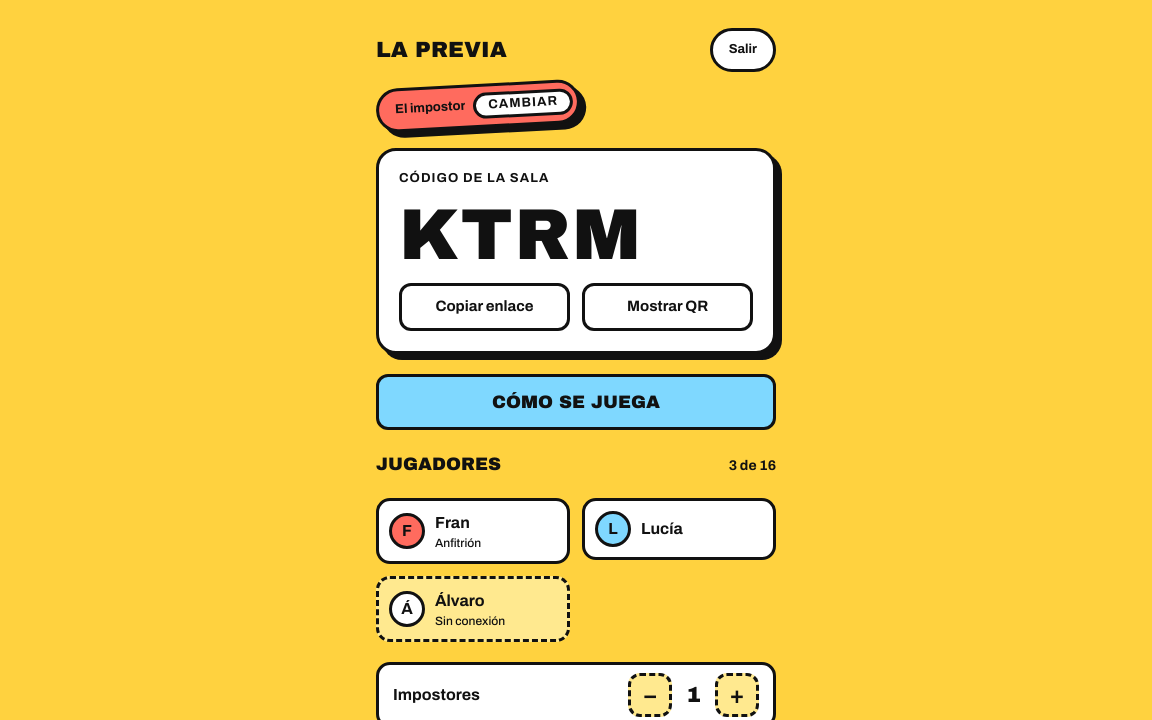
Test: Room › si no se puede salir, lo dice dentro del diálogo
The width and height of the screenshot is (1152, 720).
Click the button with aria-label "Salir de la sala" at (743, 50), box [710,28,776,72]
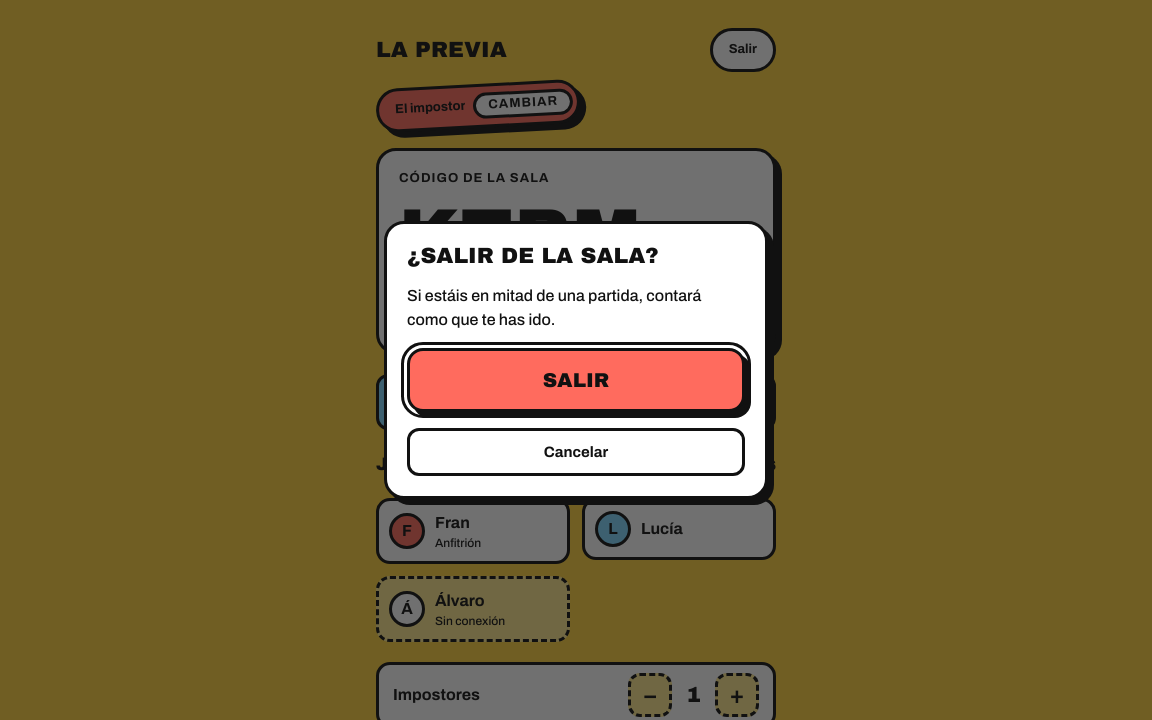
Click the button "Salir" at (576, 380), box [407,348,745,412]
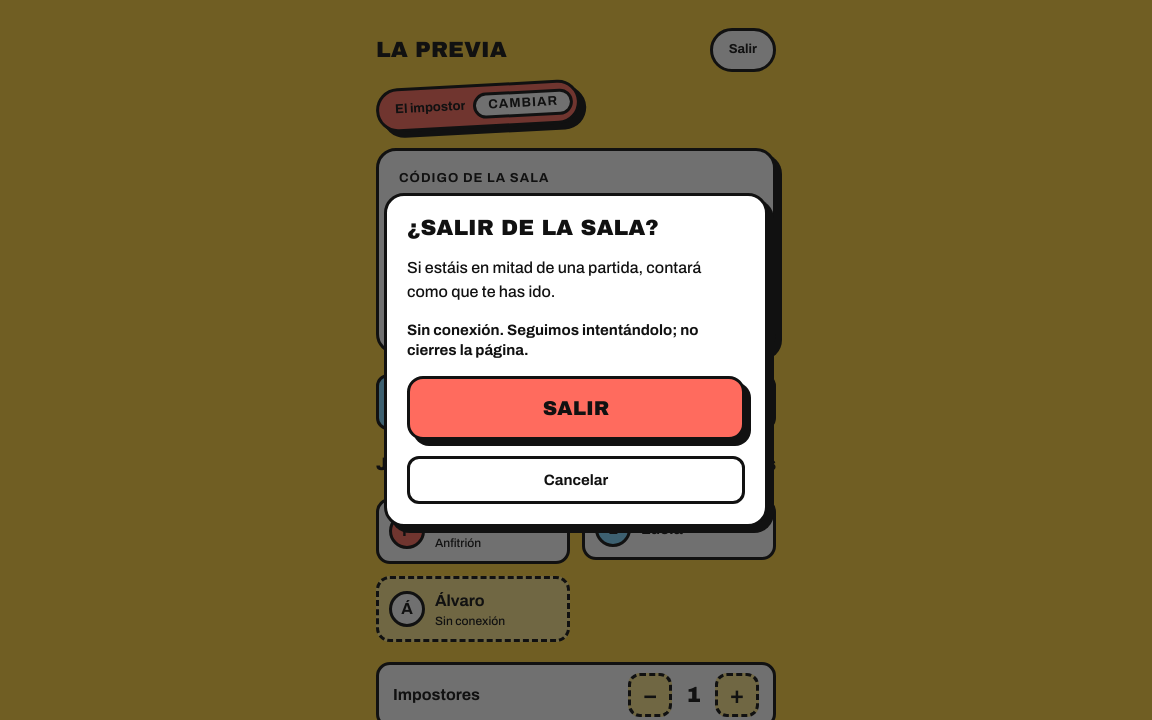
Now the message shows "Sin conexión", box [407,322,698,358]
